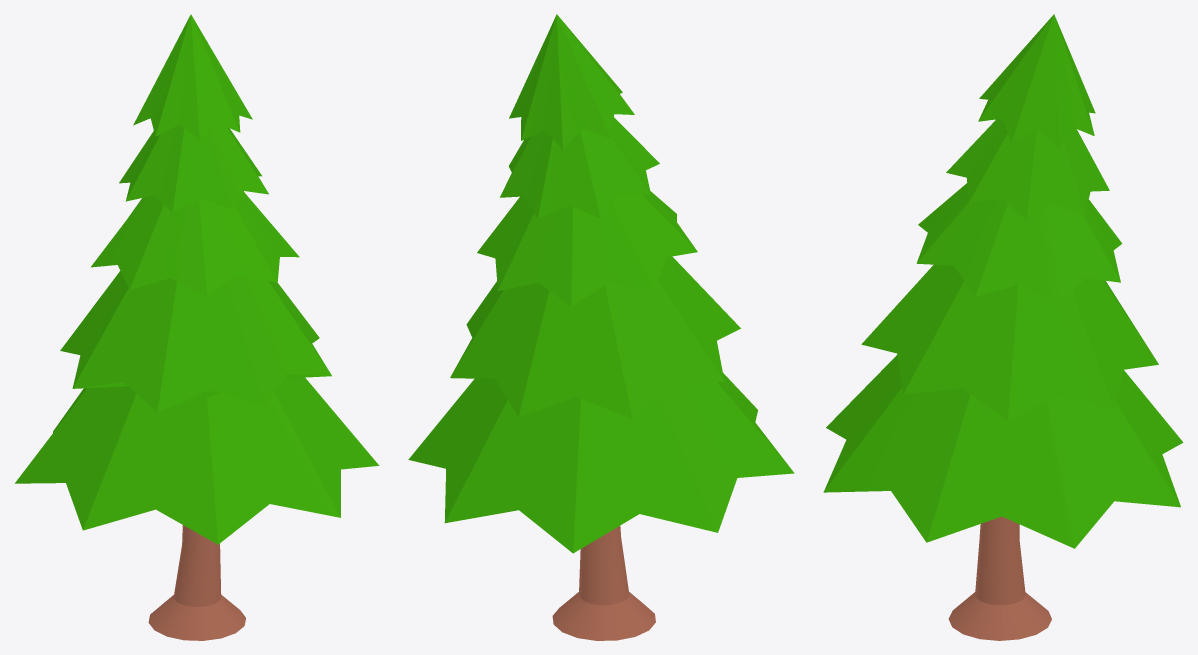
The model's file is object_94_lev1.glb.
3 renders of one model, left to right at view 1: azimuth 30°, elevation 25°; view 2: azimuth 150°, elevation 25°; view 3: azimuth 270°, elevation 25°, orthographic. The views are drawn at different scales.
Parts seen in each view (by area): view 1: object_94_lev1; view 2: object_94_lev1; view 3: object_94_lev1.
Boxes of the visible parts, bbox=[...] form: object_94_lev1: bbox=[15, 14, 379, 640]; object_94_lev1: bbox=[408, 14, 794, 640]; object_94_lev1: bbox=[823, 14, 1183, 640].
Bounding box in the file's own units: 0.6738 × 1.27 × 0.6735.
1 material, 1 textured.
